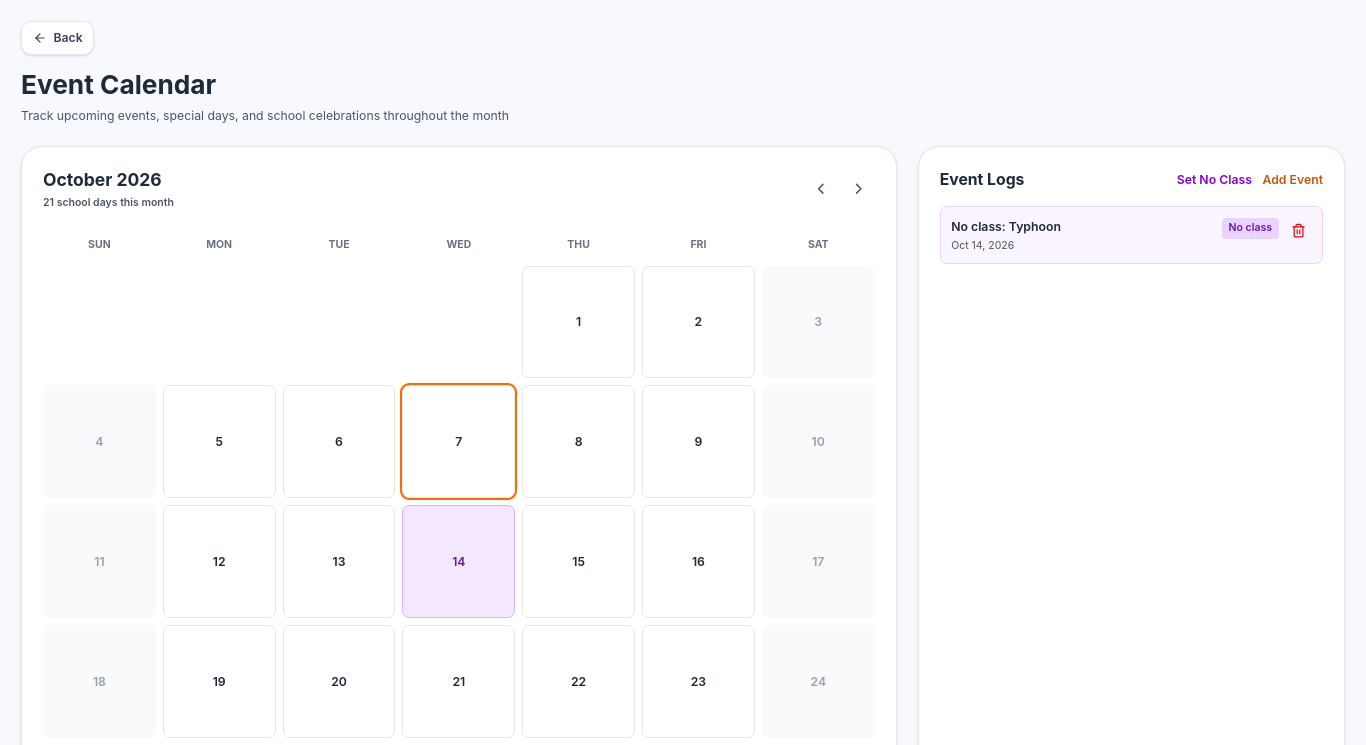
CalendarEvents page — no-class days › shows the server's message when setting fails, and blocks a backwards range
Expected: the text "No class: Typhoon" is shown, [951,218,1061,235]
Click the button "Set No Class" at (1214,180), box [1177,171,1252,188]
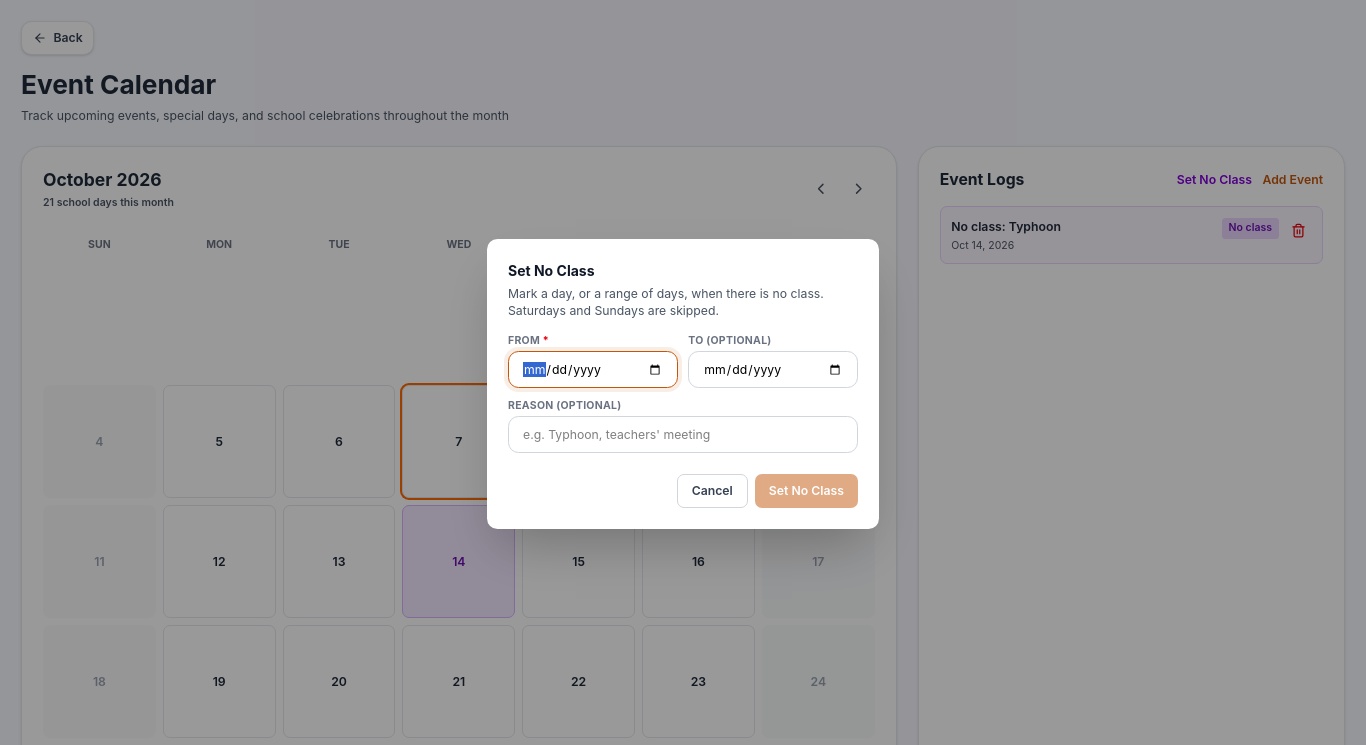
Type "2026-10-20" into the date field labelled "From *" at (593,370), box [508,351,678,388]
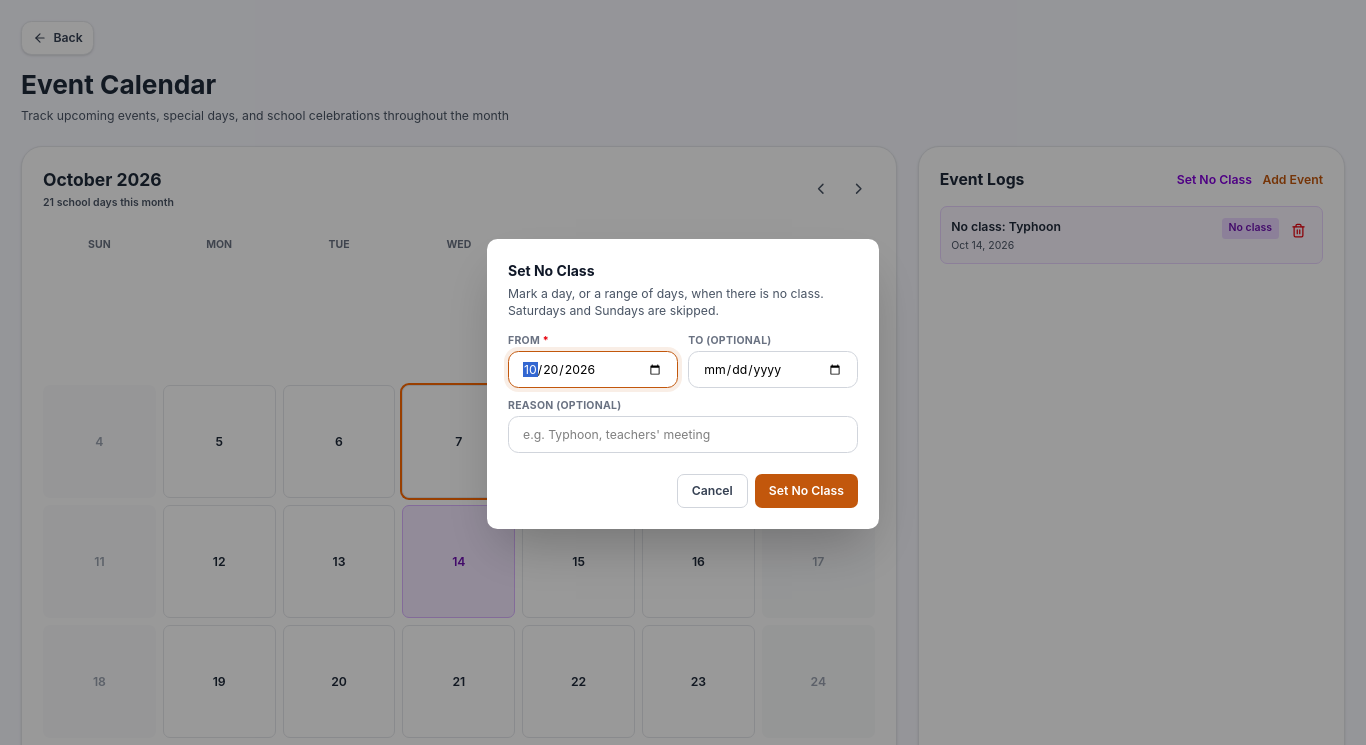
Type "2026-10-19" into the date field labelled "To (optional)" at (773,370), box [688,351,858,388]
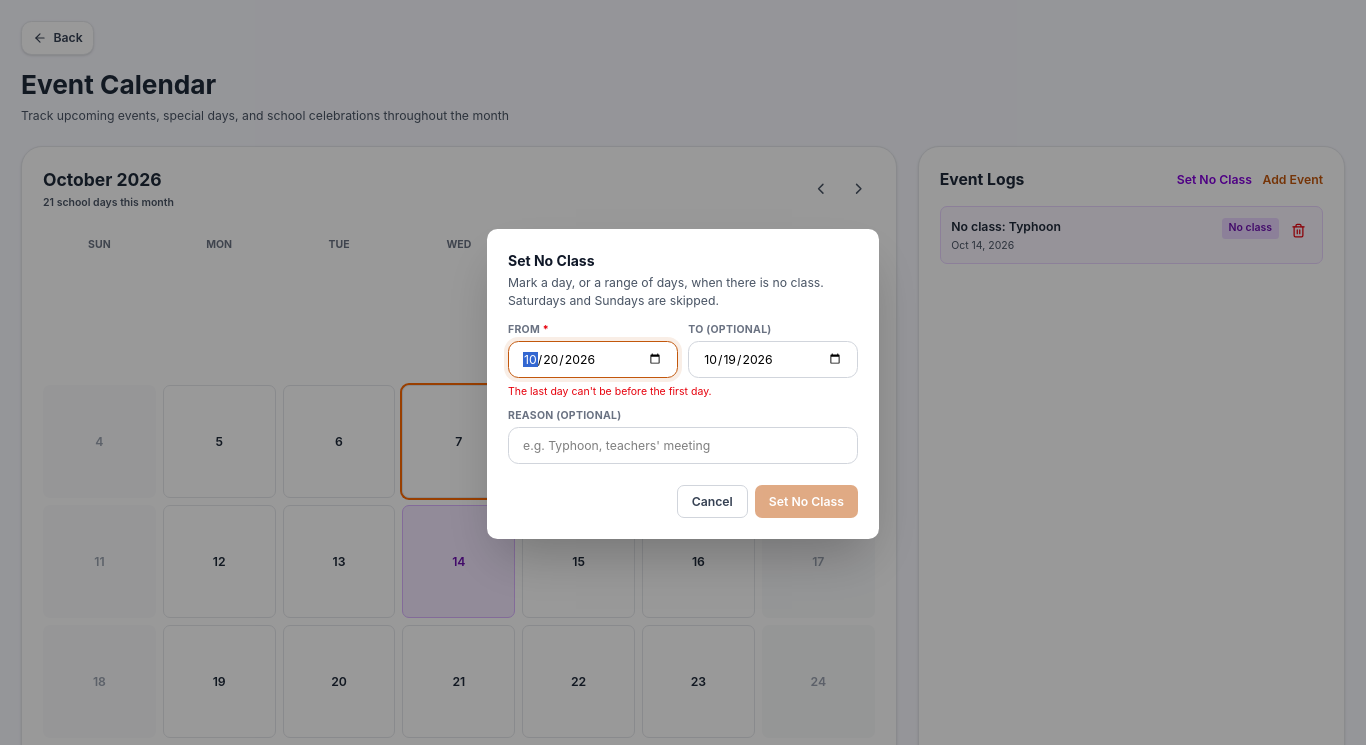
Result: the text "The last day can't be before the first day." is shown at [508,385,712,398]
Result: the button "Set No Class" is disabled at [755,485,858,518]
Clear the date field labelled "To (optional)" at (773,359), box [688,341,858,378]
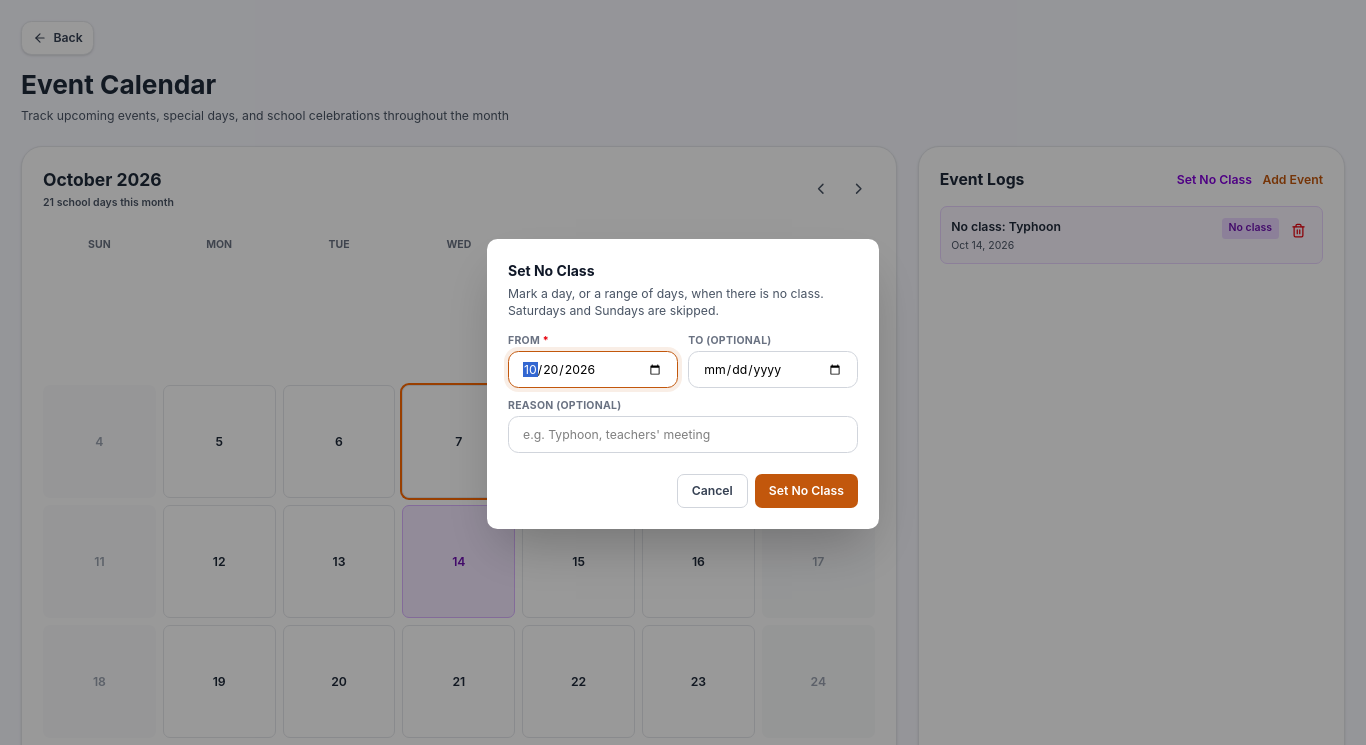
Click the button "Set No Class" at (806,491), box [755,474,858,508]
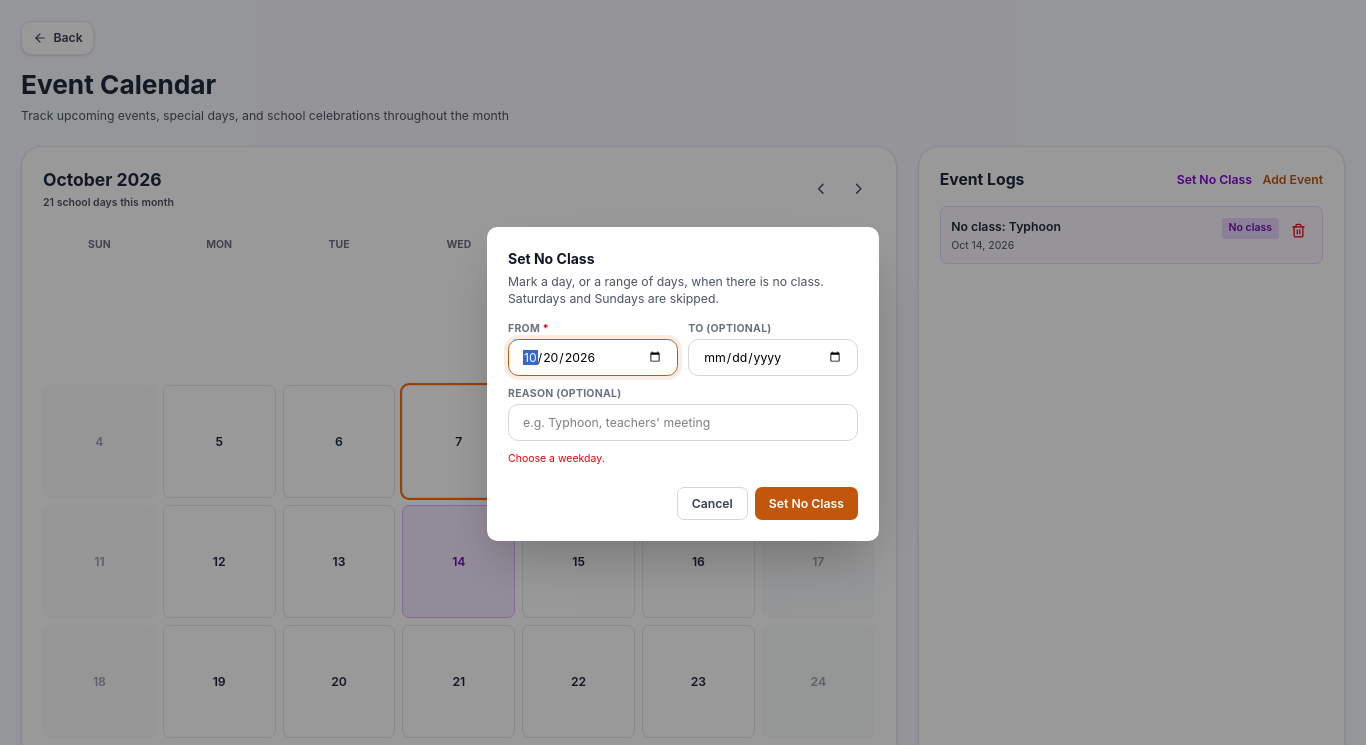
Result: the message "Choose a weekday." is shown at [508,452,605,464]
